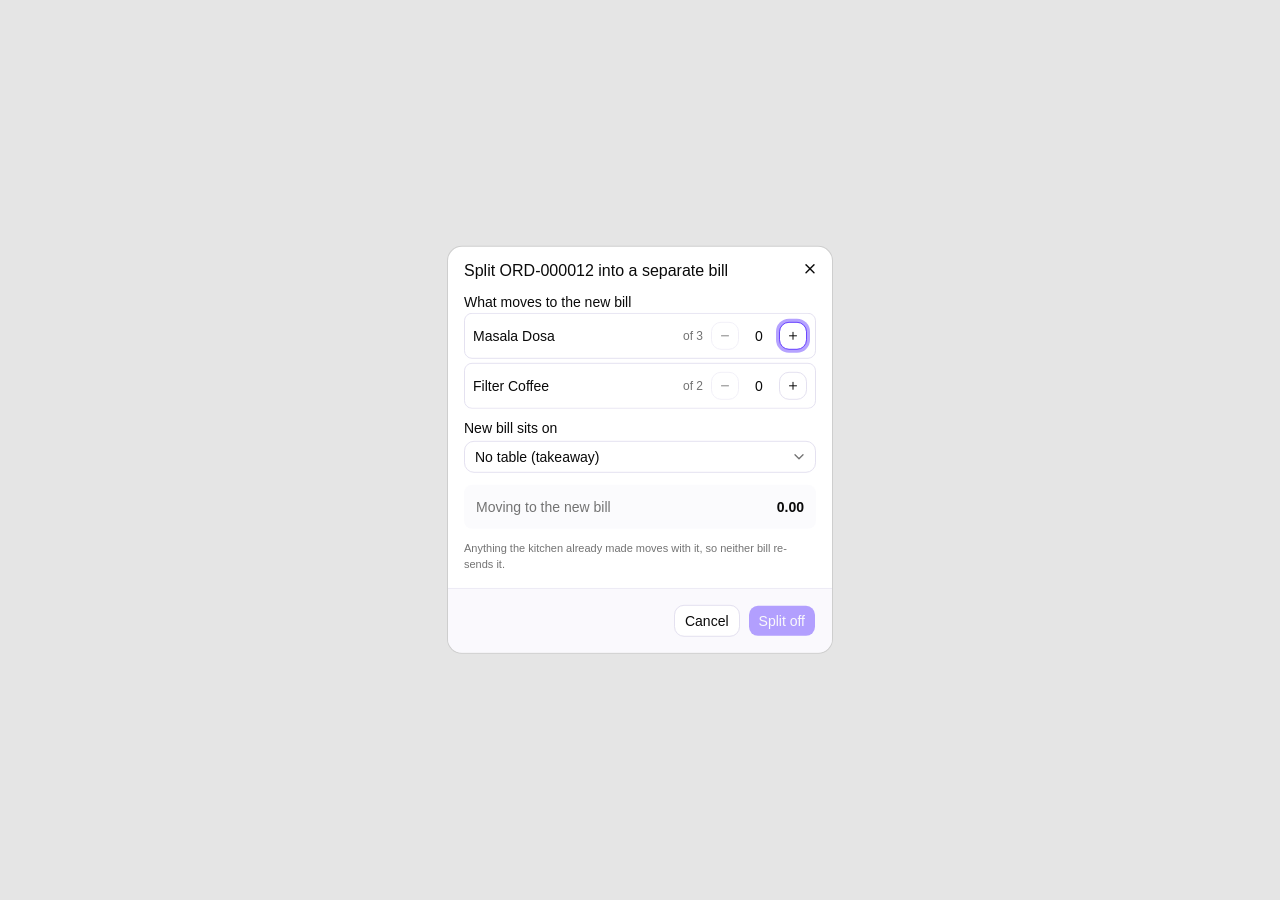
it: SplitOrderDialog › never lets a guest be charged for more than was ordered
Click the button named "move one more Filter Coffee".
click(793, 386)  # box [779,372,807,400]
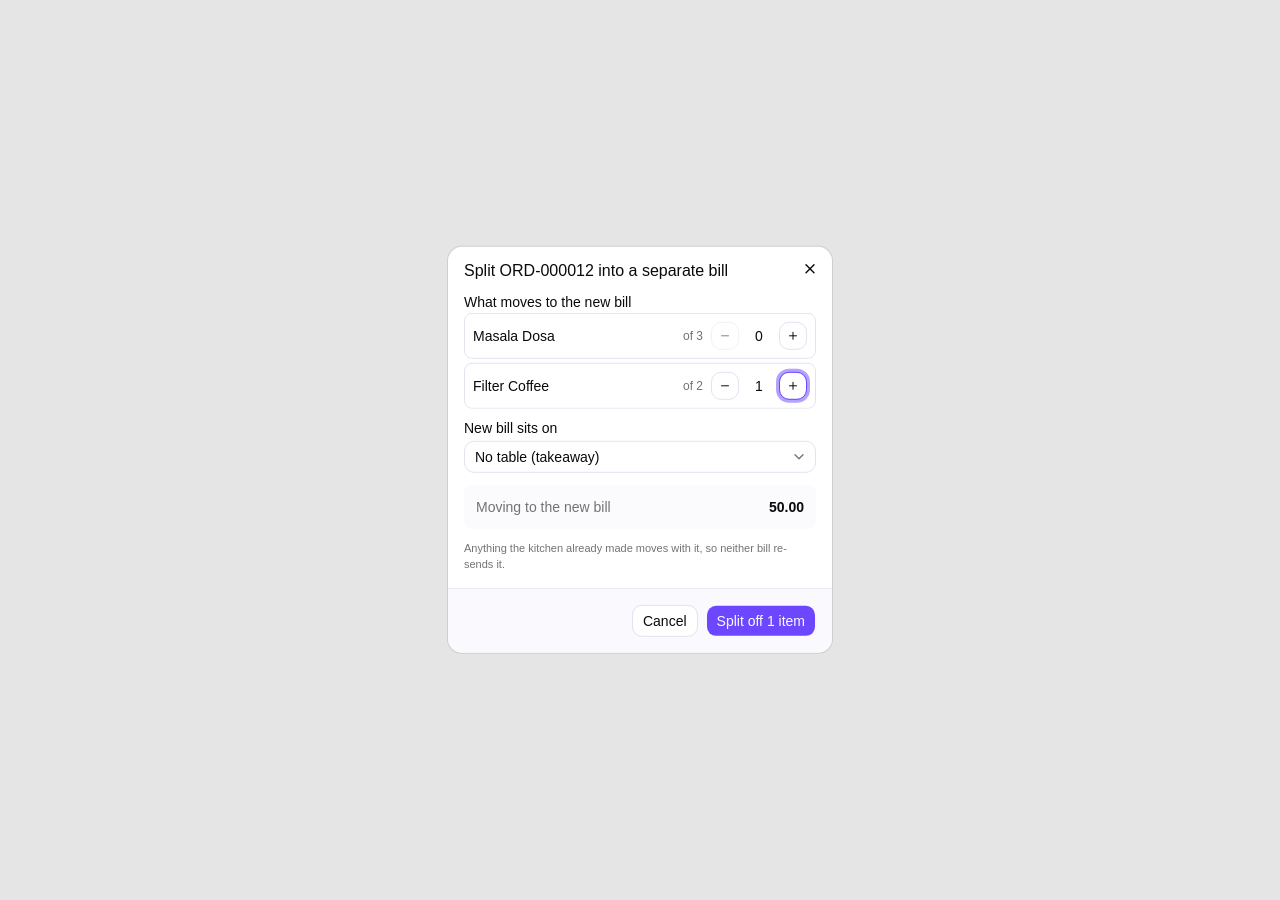
Click the button named "move one more Filter Coffee".
click(793, 386)  # box [779,372,807,400]
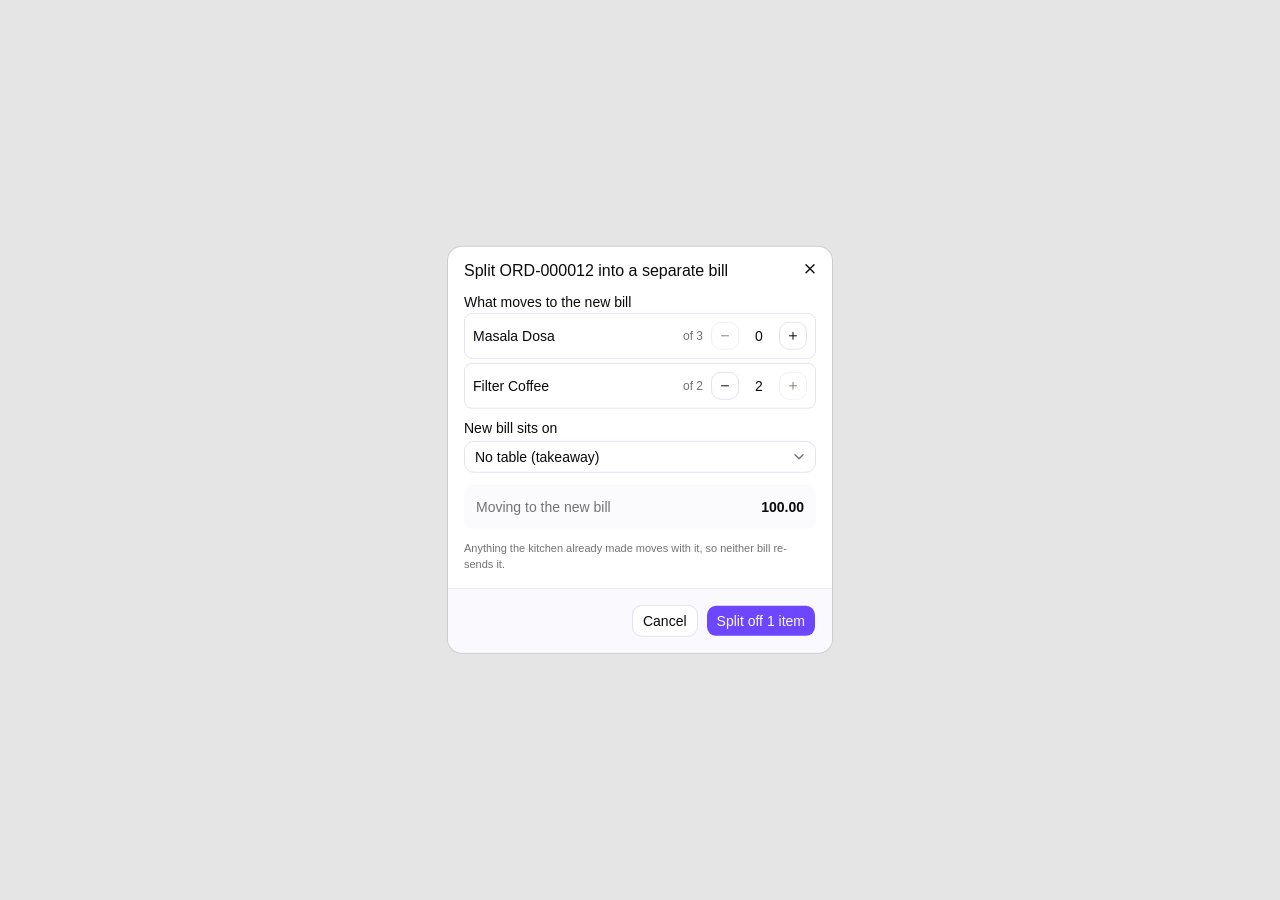
Expected: the button named "move one more Filter Coffee" is disabled, [779,372,807,400]
